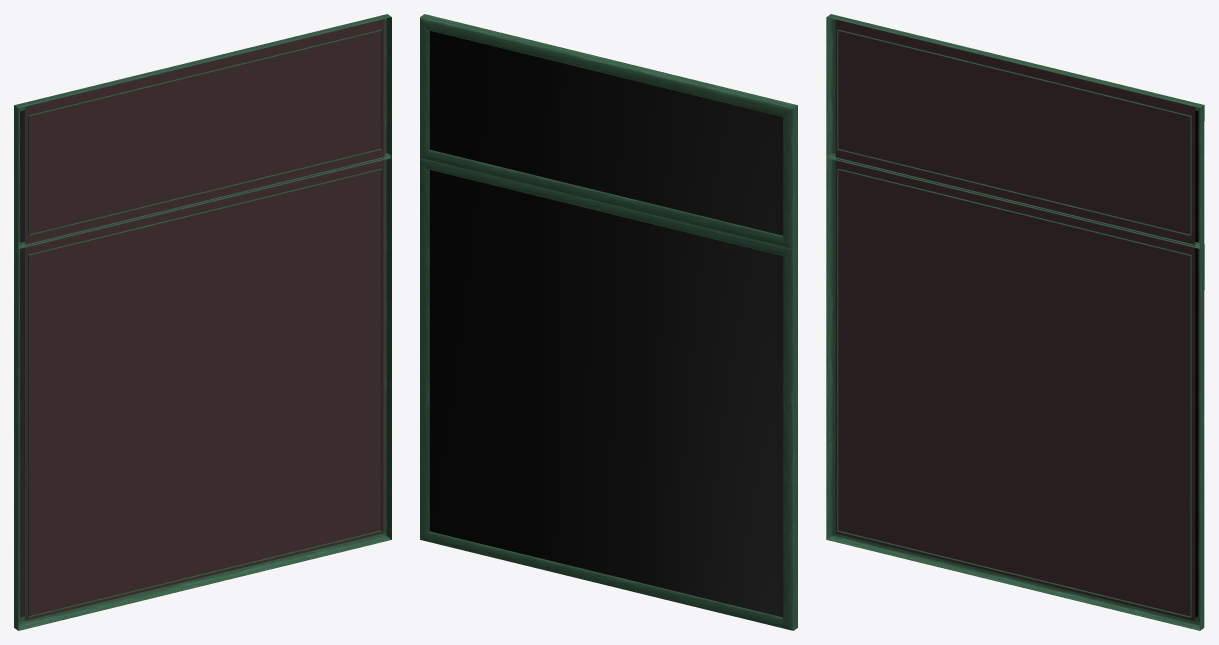
Rendered from Shop_3_2_10 (5).fbx.
3 views of the same model, side by side, from view 1: azimuth 30°, elevation 25°; view 2: azimuth 150°, elevation 25°; view 3: azimuth 330°, elevation 25° (orthographic).
Visible parts, largest first — view 1: Shop_3_2_10__5_, Glass2; view 2: Glass2, Shop_3_2_10__5_; view 3: Shop_3_2_10__5_, Glass2.
Part boxes in pixels (<box>): Shop_3_2_10__5_: <box>14,14,391,630</box>; Glass2: <box>20,110,24,617</box>; Glass2: <box>429,30,782,617</box>; Shop_3_2_10__5_: <box>420,14,797,630</box>; Shop_3_2_10__5_: <box>826,14,1204,630</box>; Glass2: <box>1195,110,1198,617</box>.
Size of the model in its own units: 252 by 337 by 6.34.
